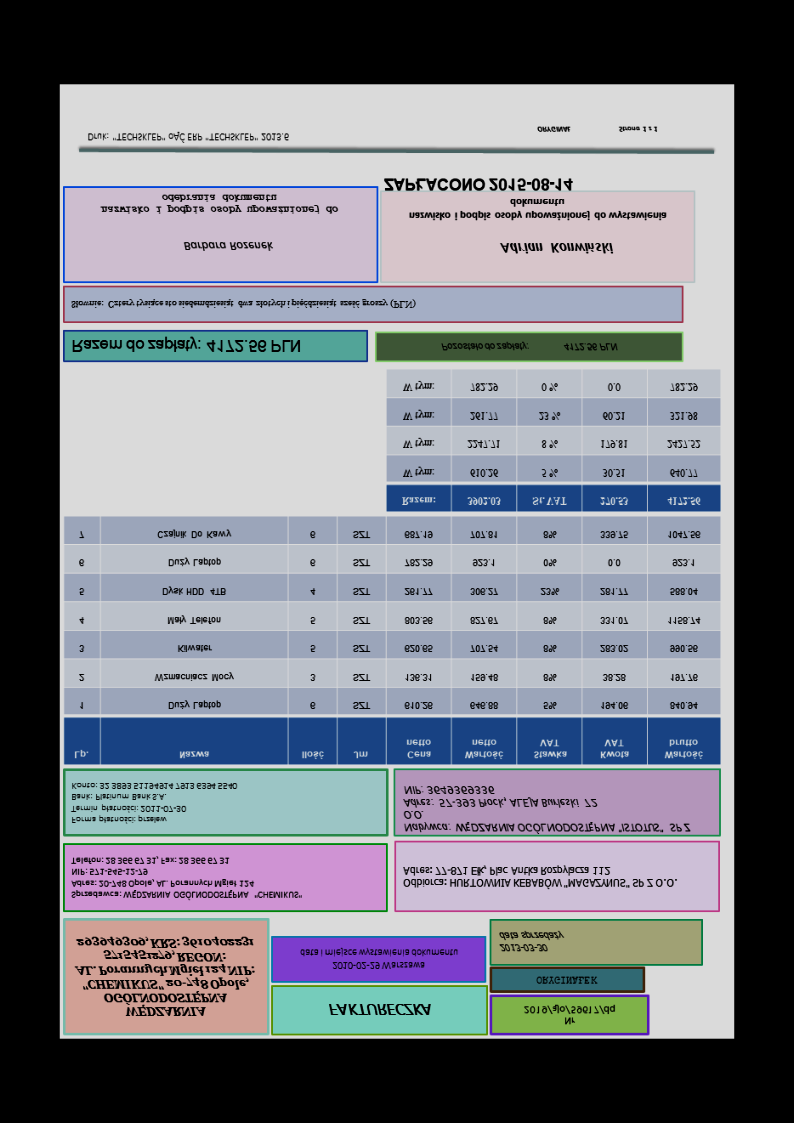Table: (61, 513, 723, 766), (384, 367, 723, 513)
TextBox: (72, 933, 258, 1018), (400, 783, 693, 836), (68, 853, 305, 902), (400, 862, 679, 892), (70, 780, 237, 827), (406, 197, 672, 224), (99, 191, 341, 219), (69, 296, 417, 312), (71, 335, 303, 357), (297, 945, 460, 974), (381, 175, 573, 196), (84, 130, 293, 146), (438, 338, 619, 355), (522, 1002, 618, 1028), (496, 927, 566, 957), (326, 1001, 433, 1020), (497, 240, 615, 256), (536, 123, 660, 137), (180, 239, 277, 254), (533, 974, 600, 989)
